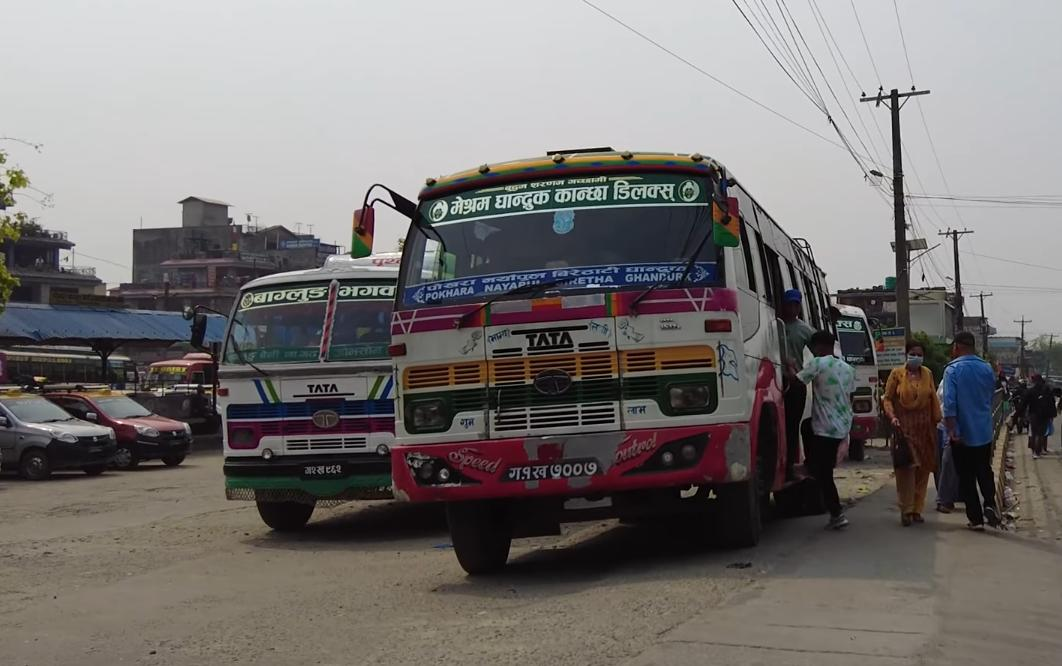bus: (349, 135, 841, 592), (197, 251, 446, 542)
